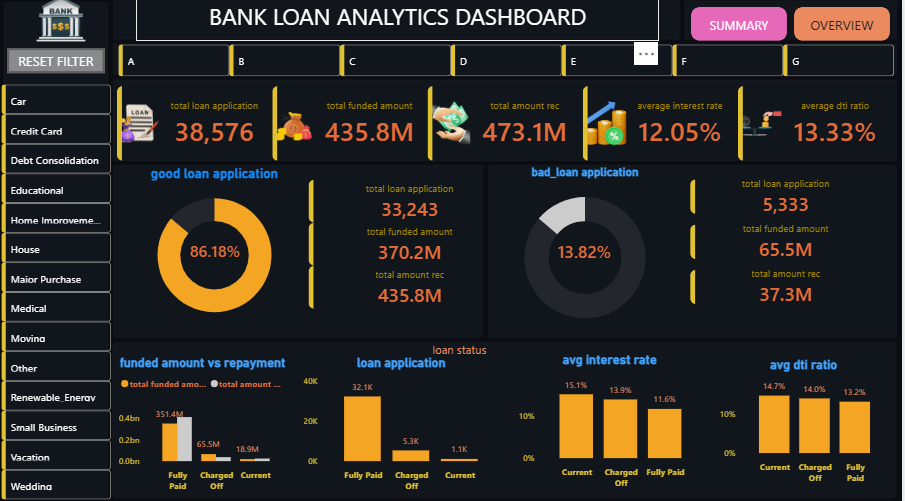

Layout of this report page (visuals, bound fields, positions):
{"tool":"powerbi","page":{"name":"SUMMARY","canvas":[1280,720],"ordinal":0},"visuals":[{"type":"cardVisual","fields":{"Data":["financial_loan.total loan application","financial_loan.total funded amount","financial_loan.total amount received","financial_loan.average interest rate","financial_loan.average dti rate"]},"box":[151.7,109.1,1128.2,140.3],"z":0},{"type":"donutChart","title":"good loan application","fields":{"Category":["financial_loan.good_vs_bad_loan"],"Y":["financial_loan.total loan application"]},"box":[165.8,238.1,282,233.9],"z":1000},{"type":"donutChart","title":"bad_loan application","fields":{"Category":["financial_loan.good_vs_bad_loan"],"Y":["financial_loan.total loan application"]},"box":[695.9,238.1,272.1,243.8],"z":2000},{"type":"cardVisual","fields":{"Data":["financial_loan.good loan %"]},"box":[215.4,318.9,184.3,80.8],"z":3000},{"type":"cardVisual","fields":{"Data":["financial_loan.bad loan%"]},"box":[744.1,318.9,174.3,80.8],"z":4000},{"type":"cardVisual","fields":{"Data":["financial_loan.total loan application","financial_loan.total funded amount","financial_loan.total amount received"],"Rows":["financial_loan.good_vs_bad_loan"]},"box":[435.1,206.9,297.6,262.2],"z":5000},{"type":"cardVisual","fields":{"Data":["financial_loan.total loan application","financial_loan.total funded amount","financial_loan.total amount received"],"Rows":["financial_loan.good_vs_bad_loan"]},"box":[968,164.4,297.6,304.7],"z":6000},{"type":"clusteredColumnChart","title":"funded amount vs repayment","fields":{"Category":["financial_loan.LOAN_STATUS"],"Y":["financial_loan.total funded amount","financial_loan.total amount rec"]},"box":[165.7,507.1,248.6,201.4],"z":7000},{"type":"clusteredColumnChart","title":"loan application","fields":{"Category":["financial_loan.LOAN_STATUS"],"Y":["financial_loan.total loan application"]},"box":[428.6,507.1,287.1,201.4],"z":8000},{"type":"textbox","box":[611.4,482.9,104.3,38.6],"z":9000},{"type":"clusteredColumnChart","title":"avg interest rate","fields":{"Category":["financial_loan.LOAN_STATUS"],"Y":["financial_loan.average interest rate"]},"box":[732.9,502.9,268.6,201.4],"z":10000},{"type":"clusteredColumnChart","title":"avg dti ratio","fields":{"Category":["financial_loan.LOAN_STATUS"],"Y":["financial_loan.average dti ratio"]},"box":[1017.1,510,248.6,187.1],"z":11000},{"type":"image","box":[12.9,0,152.9,62.9],"z":12000},{"type":"advancedSlicerVisual","fields":{"Values":["financial_loan.PURPOSE"]},"box":[0,118.6,165.7,601.4],"z":13000},{"type":"advancedSlicerVisual","fields":{"Values":["financial_loan.GRADE"]},"box":[165.7,62.9,1114.3,55.7],"z":14000},{"type":"actionButton","box":[12.9,72.9,138.6,35.7],"z":15000},{"type":"textbox","box":[195.7,0,741.4,62.9],"z":16000},{"type":"pageNavigator","box":[982.9,14.3,282.9,48.6],"z":17000}]}

Visuals, with their boxes in screenshot pixels (x1, y1, x2, y2), scaled from the page's 1280x720 canvas onto the 905x501 screenshot:
cardVisual - financial_loan.total loan application x financial_loan.total funded amount: {"left": 107, "top": 76, "right": 904, "bottom": 174}
"good loan application" donutChart: {"left": 117, "top": 166, "right": 317, "bottom": 328}
"bad_loan application" donutChart: {"left": 492, "top": 166, "right": 684, "bottom": 335}
cardVisual - financial_loan.good loan %: {"left": 152, "top": 222, "right": 283, "bottom": 278}
cardVisual - financial_loan.bad loan%: {"left": 526, "top": 222, "right": 649, "bottom": 278}
cardVisual - financial_loan.total loan application x financial_loan.total funded amount: {"left": 308, "top": 144, "right": 518, "bottom": 326}
cardVisual - financial_loan.total loan application x financial_loan.total funded amount: {"left": 684, "top": 114, "right": 895, "bottom": 326}
"funded amount vs repayment" clusteredColumnChart: {"left": 117, "top": 353, "right": 293, "bottom": 493}
"loan application" clusteredColumnChart: {"left": 303, "top": 353, "right": 506, "bottom": 493}
textbox: {"left": 432, "top": 336, "right": 506, "bottom": 363}
"avg interest rate" clusteredColumnChart: {"left": 518, "top": 350, "right": 708, "bottom": 490}
"avg dti ratio" clusteredColumnChart: {"left": 719, "top": 355, "right": 895, "bottom": 485}
image: {"left": 9, "top": 0, "right": 117, "bottom": 44}
advancedSlicerVisual - financial_loan.PURPOSE: {"left": 0, "top": 83, "right": 117, "bottom": 500}
advancedSlicerVisual - financial_loan.GRADE: {"left": 117, "top": 44, "right": 904, "bottom": 83}
actionButton: {"left": 9, "top": 51, "right": 107, "bottom": 76}
textbox: {"left": 138, "top": 0, "right": 663, "bottom": 44}
pageNavigator: {"left": 695, "top": 10, "right": 895, "bottom": 44}
